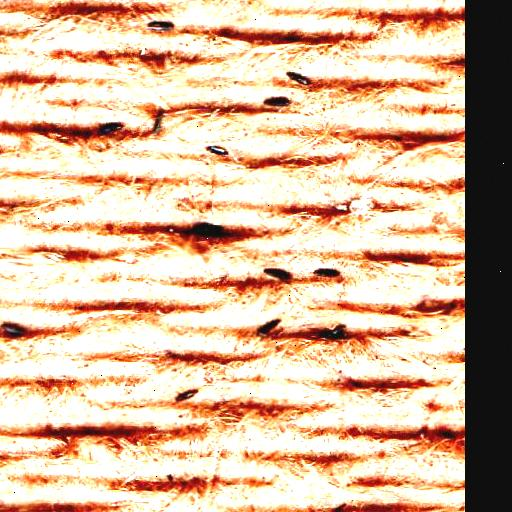egg: (253, 317, 284, 339), (315, 322, 351, 338), (173, 387, 203, 405), (150, 108, 169, 136), (285, 70, 316, 85), (264, 92, 291, 109), (263, 268, 291, 283), (4, 323, 31, 338), (313, 266, 338, 282), (150, 20, 178, 34), (100, 121, 126, 135), (205, 145, 231, 158), (437, 425, 459, 438), (333, 506, 348, 512)
